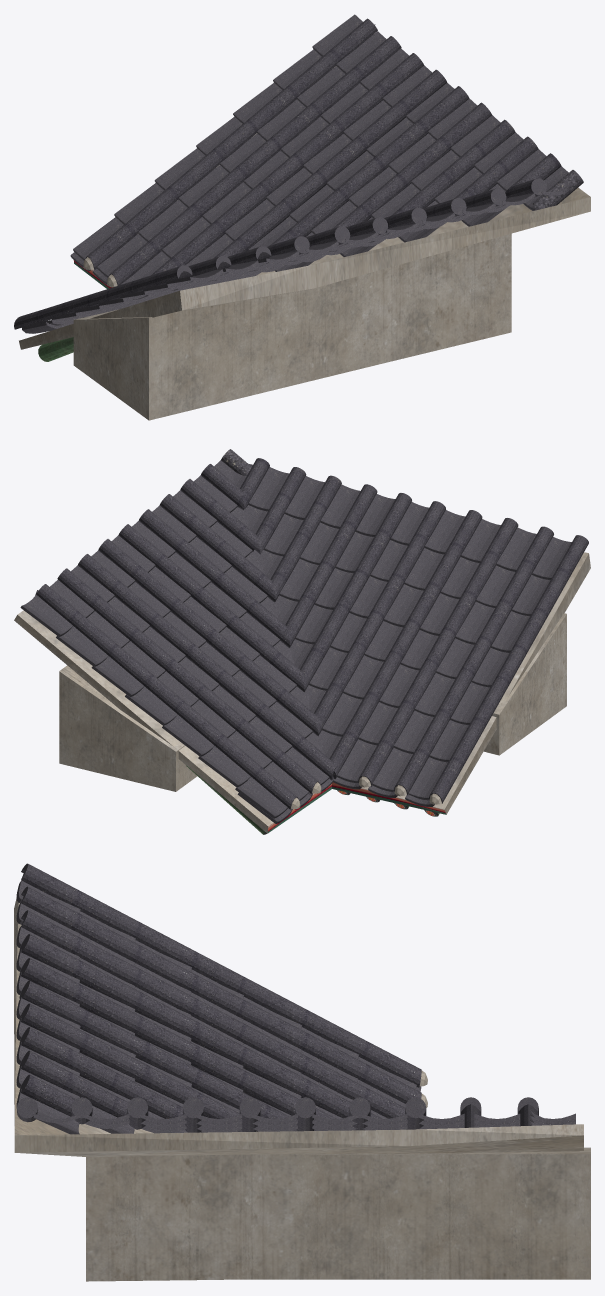
Rendered from SM_R_RoofCornerCut_4.fbx.
3 views of the same model, one above another, from view 1: azimuth 30°, elevation 25°; view 2: azimuth 150°, elevation 25°; view 3: azimuth 270°, elevation 25° (orthographic). The views are drawn at different scales.
Visible parts, largest first — view 1: SM_R_RoofCornerCut_4; view 2: SM_R_RoofCornerCut_4; view 3: SM_R_RoofCornerCut_4.
Boxes of the visible parts, x1=… form: SM_R_RoofCornerCut_4: x1=14, y1=14, x2=590, y2=420; SM_R_RoofCornerCut_4: x1=14, y1=449, x2=590, y2=834; SM_R_RoofCornerCut_4: x1=14, y1=863, x2=590, y2=1281.
Bounding box in the file's own units: 440 × 438 × 213.
Materials: 4 (4 with a texture image).
